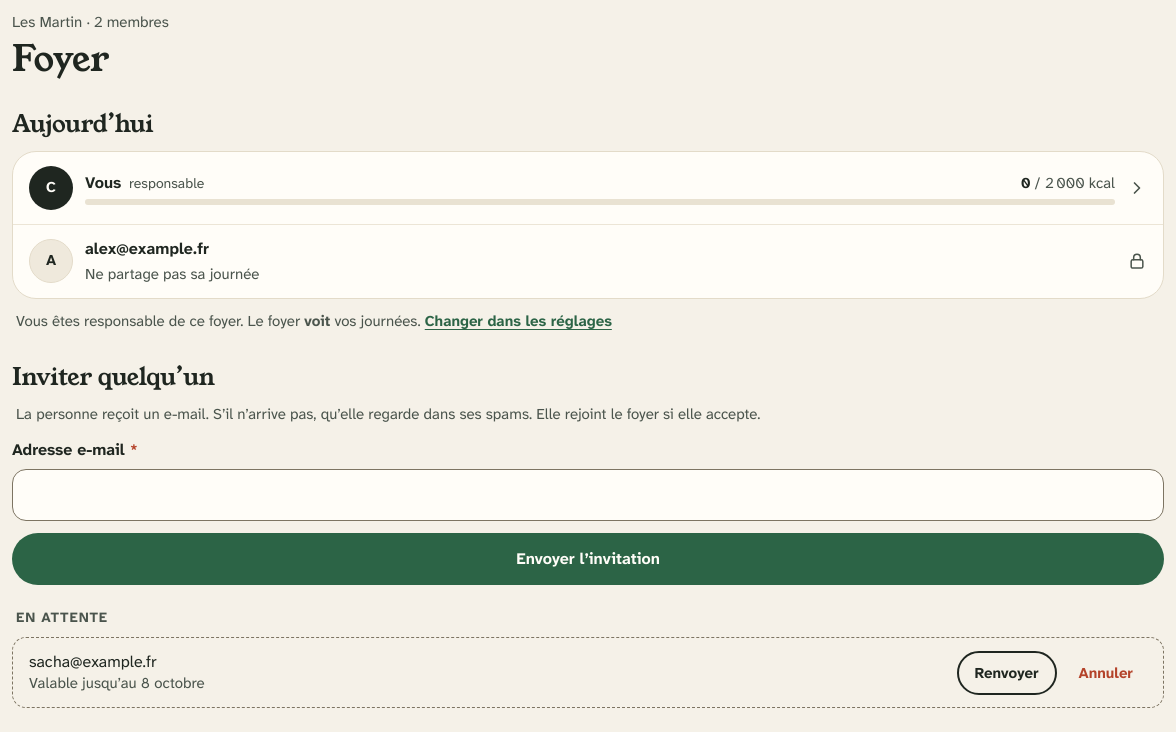
Test: Écran Foyer › traduit le refus d’une invitation
This screenshot has width=1176, height=732.
In the field labelled "Adresse e-mail *": (588, 495) [29,470,1147,520], type "sacha@example.fr"
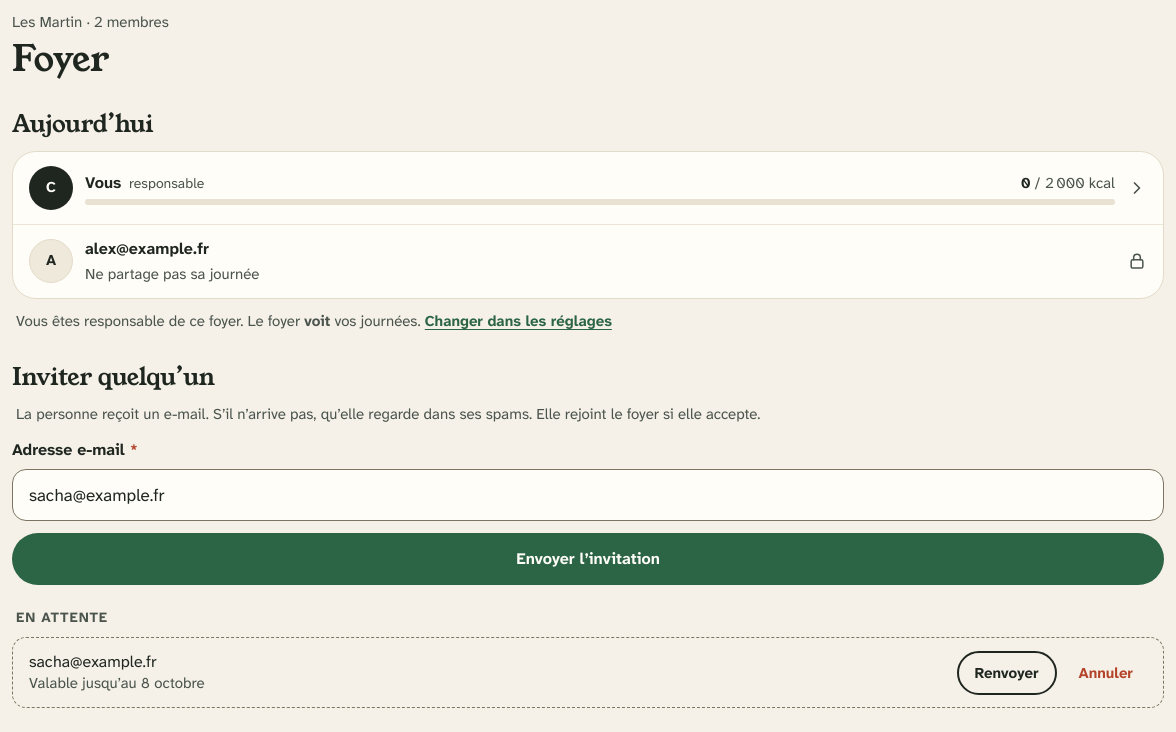
Submit the form, box [12,438,1164,585]
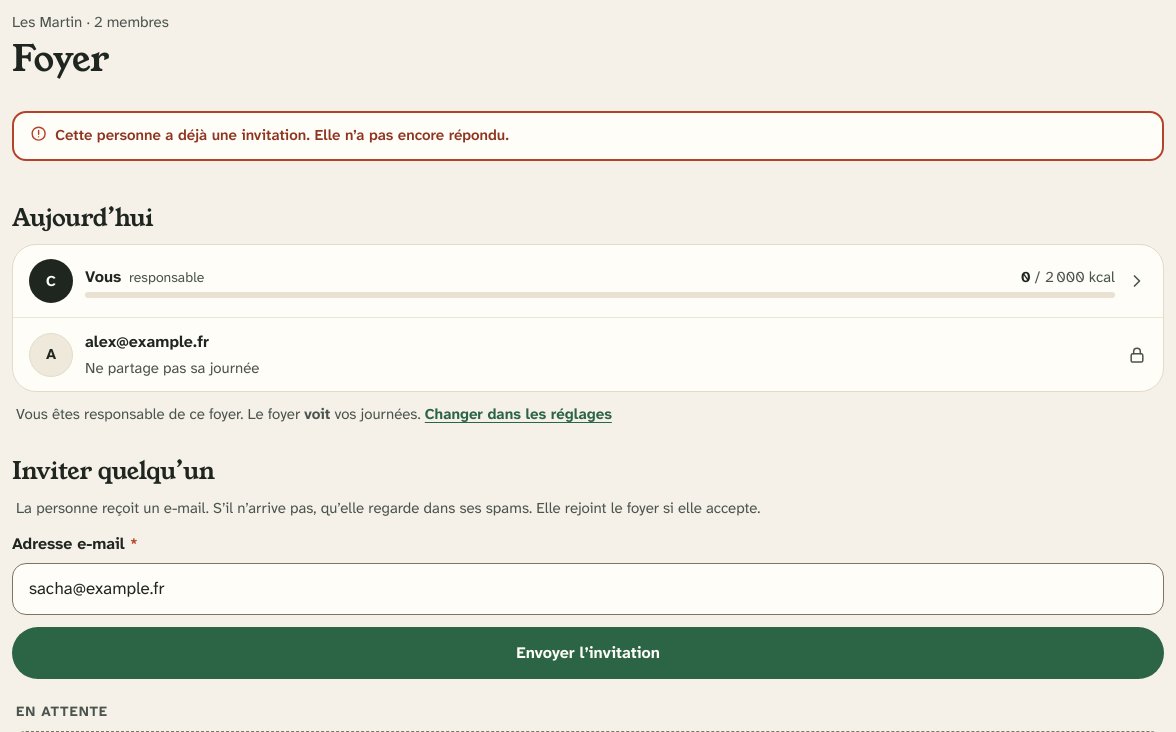
expect the message "Cette personne a déjà une invitation. Elle n’a pas encore répondu." is shown: met, box [12,111,1164,161]
